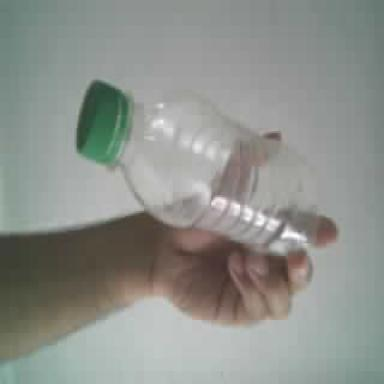bottle: (74, 80, 319, 256)
